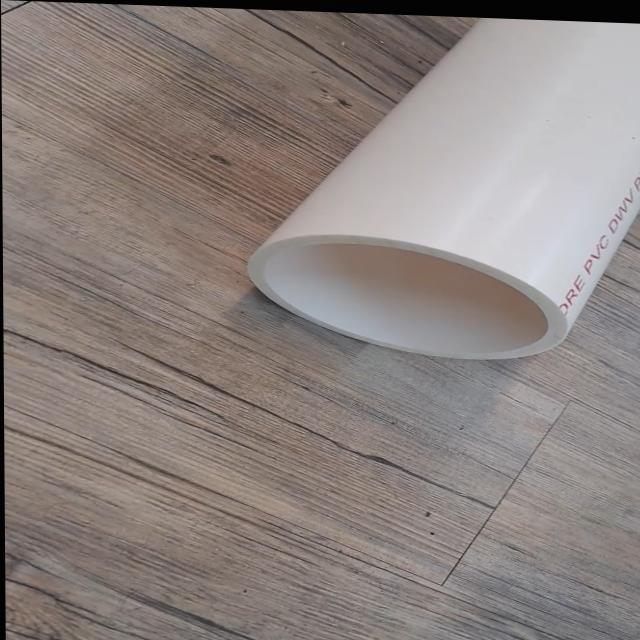CORAL: (225, 8, 640, 378)
